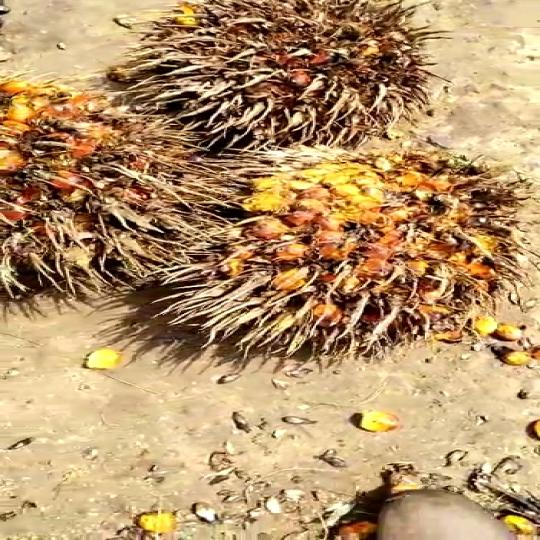terlalu masak: (119, 160, 533, 354), (104, 0, 457, 151)
